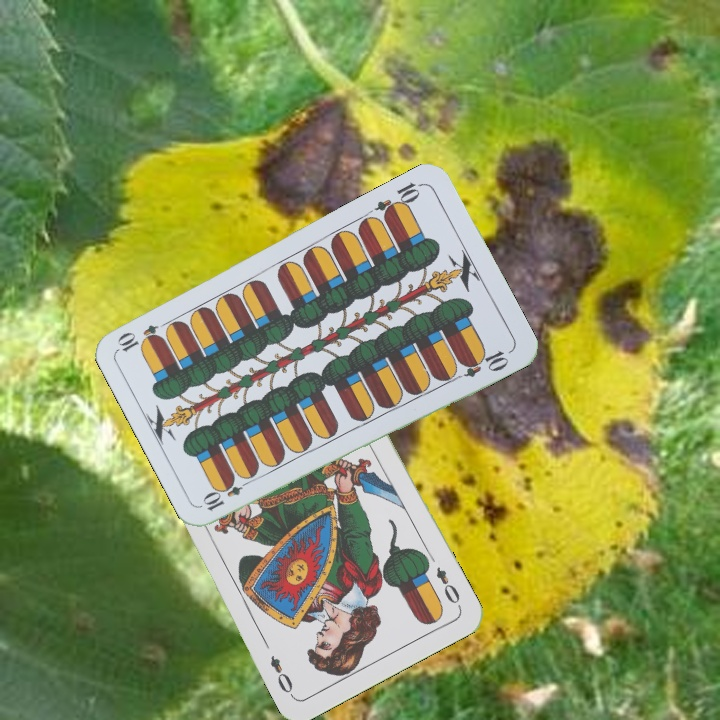E10: (371, 178, 426, 222), (199, 473, 255, 514)
EO: (432, 562, 463, 607)
